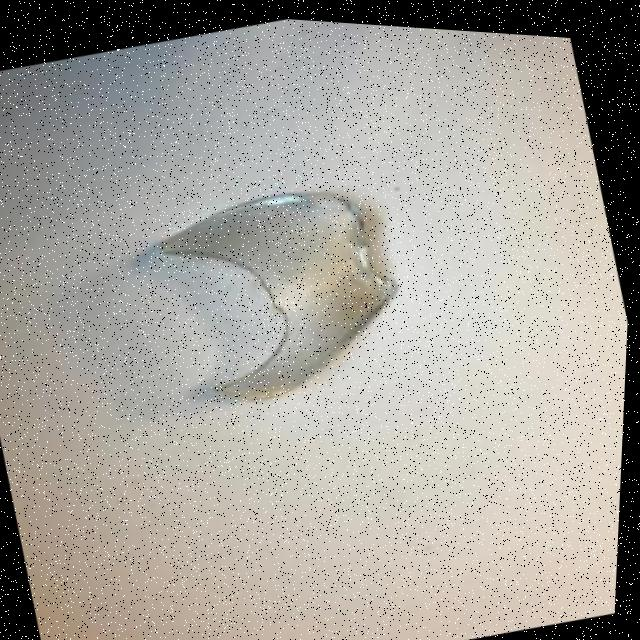glass: (130, 144, 435, 438)
